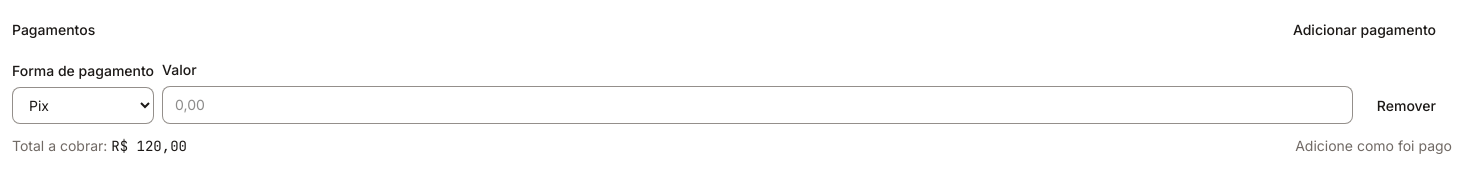
Scenario: PagamentosField › mostra quanto falta quando a soma não bate
The image size is (1464, 173).
Type "80.00" into the field labelled "Valor" at (758, 105), box [162, 86, 1353, 124]
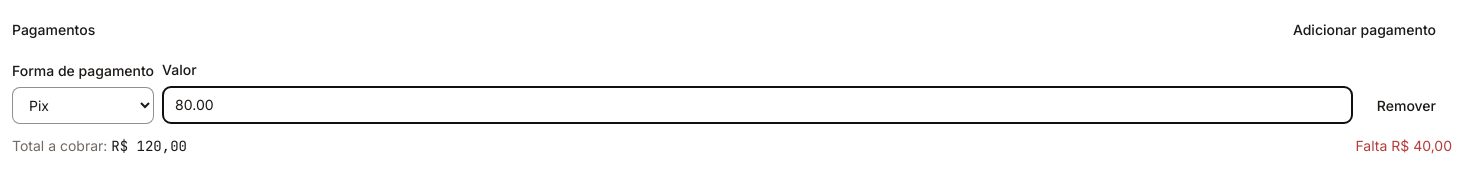
Expected: the text "Falta R$ 40,00" is shown, [1355, 136, 1452, 156]
